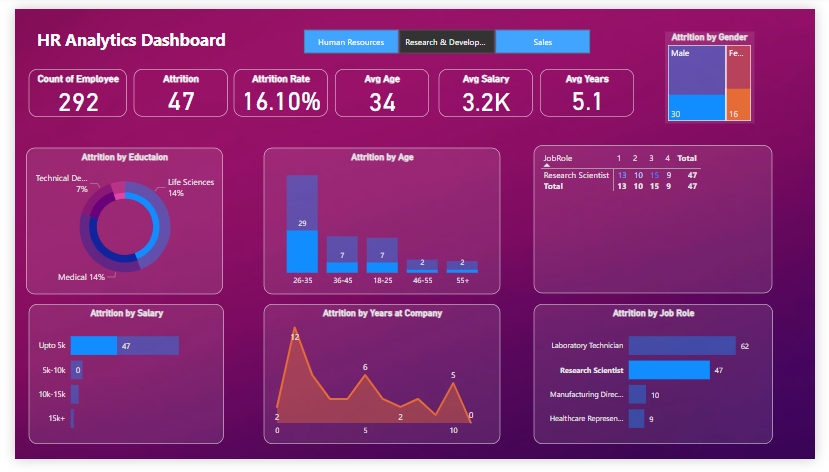

What the dashboard file says about the page in this screenshot:
{"tool":"powerbi","page":{"name":"Page 1","canvas":[1280,720],"ordinal":0},"visuals":[{"type":"card","title":"Avg Salary","fields":{"Values":["Avg(HR_Analytics.MonthlyIncome)"]},"box":[678.6,95.7,150,77.1],"z":0},{"type":"card","title":"Count of Employee","fields":{"Values":["CountNonNull(HR_Analytics.EmpID)"]},"box":[21.4,95.7,157.1,77.1],"z":1000},{"type":"card","title":"Attrition","fields":{"Values":["Sum(HR_Analytics.AttritionCount)"]},"box":[190,96,150,75.7],"z":2000},{"type":"card","title":"Attrition Rate","fields":{"Values":["HR_Analytics.AttritionRate"]},"box":[350,95.7,150,75.7],"z":3000},{"type":"card","title":"Avg Years","fields":{"Values":["Avg(HR_Analytics.YearsAtCompany)"]},"box":[840,95.7,150,75.7],"z":4000},{"type":"card","title":"Avg Age","fields":{"Values":["Avg(HR_Analytics.Age)"]},"box":[511.4,95.7,150,77.1],"z":5000},{"type":"donutChart","title":"Attrition by Eductaion","fields":{"Category":["HR_Analytics.EducationField"],"Y":["Sum(HR_Analytics.AttritionCount)"]},"box":[18.6,221.4,314.3,234.3],"z":6000},{"type":"pivotTable","title":"Attrition by Eductaion","fields":{"Rows":["HR_Analytics.JobRole"],"Columns":["HR_Analytics.JobSatisfaction"],"Values":["Sum(HR_Analytics.AttritionCount)"]},"box":[830,218.6,381.4,237.1],"z":7000},{"type":"columnChart","title":"Attrition by Age","fields":{"Category":["HR_Analytics.AgeGroup"],"Y":["Sum(HR_Analytics.AttritionCount)"]},"box":[398.6,221.4,378.6,234.3],"z":8000},{"type":"barChart","title":"Attrition by Salary","fields":{"Category":["HR_Analytics.SalarySlab"],"Y":["Sum(HR_Analytics.AttritionCount)"]},"box":[22,472,312,224],"z":9000},{"type":"barChart","title":"Attrition by Job Role","fields":{"Y":["Sum(HR_Analytics.AttritionCount)"],"Category":["HR_Analytics.JobRole"]},"box":[830,472,382,224],"z":10000},{"type":"areaChart","title":"Attrition by Years at Company","fields":{"Category":["HR_Analytics.YearsAtCompany"],"Y":["Sum(HR_Analytics.AttritionCount)"]},"box":[398.6,471.4,378.6,224.3],"z":11000},{"type":"treemap","title":"Attrition by Gender","fields":{"Group":["HR_Analytics.Gender"],"Values":["Sum(HR_Analytics.AttritionCount)"]},"box":[1040,35.7,142.9,147.1],"z":12000},{"type":"slicer","fields":{"Values":["HR_Analytics.Department"]},"box":[435,25,508.3,51.7],"z":13000},{"type":"textbox","box":[30,25.7,345.7,58.6],"z":14000}]}

Visuals, with their boxes in screenshot pixels (x1, y1, x2, y2), scaled from the page's 1280x720 canvas onto the 829x472 screenshot:
"Avg Salary" card: (left=439, top=63, right=537, bottom=113)
"Count of Employee" card: (left=14, top=63, right=116, bottom=113)
"Attrition" card: (left=123, top=63, right=220, bottom=113)
"Attrition Rate" card: (left=227, top=63, right=324, bottom=112)
"Avg Years" card: (left=544, top=63, right=641, bottom=112)
"Avg Age" card: (left=331, top=63, right=428, bottom=113)
"Attrition by Eductaion" donutChart: (left=12, top=145, right=216, bottom=299)
"Attrition by Eductaion" pivotTable: (left=538, top=143, right=785, bottom=299)
"Attrition by Age" columnChart: (left=258, top=145, right=503, bottom=299)
"Attrition by Salary" barChart: (left=14, top=309, right=216, bottom=456)
"Attrition by Job Role" barChart: (left=538, top=309, right=785, bottom=456)
"Attrition by Years at Company" areaChart: (left=258, top=309, right=503, bottom=456)
"Attrition by Gender" treemap: (left=674, top=23, right=766, bottom=120)
slicer - HR_Analytics.Department: (left=282, top=16, right=611, bottom=50)
textbox: (left=19, top=17, right=243, bottom=55)
